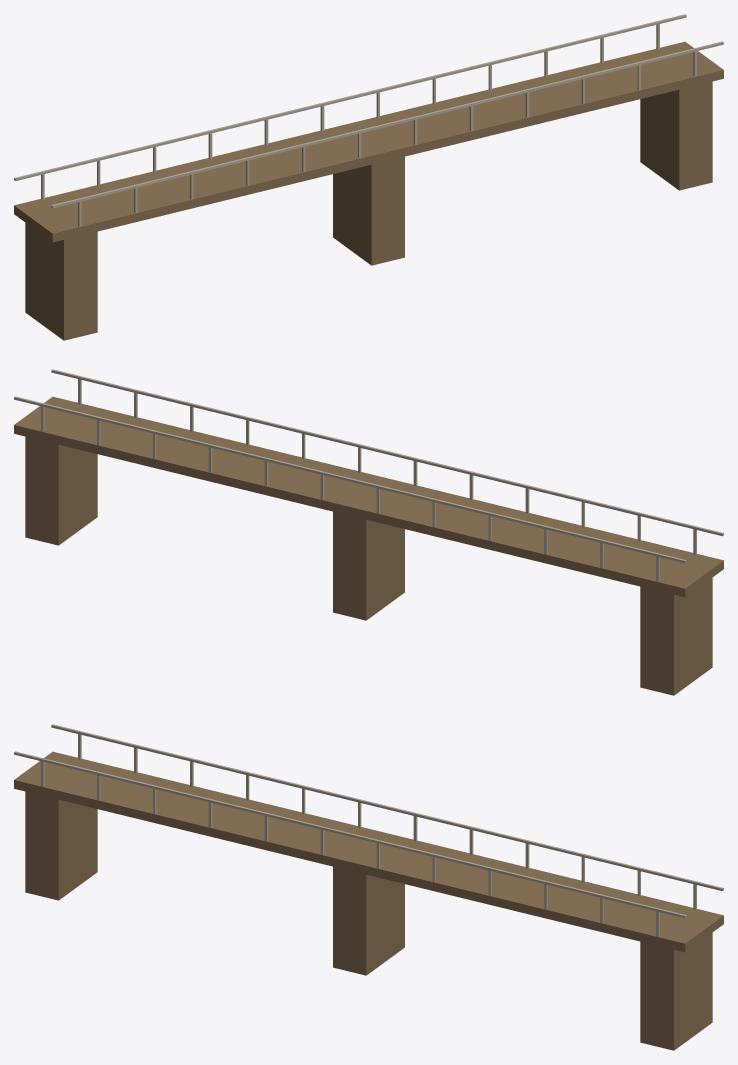
File: g05-footbridge-timber.glb
The picture shows the model from 3 angles, top to bottom: view 1: azimuth 30°, elevation 25°; view 2: azimuth 150°, elevation 25°; view 3: azimuth 330°, elevation 25°; orthographic projection.
Visible parts, largest first — view 1: part0, part1, part3, part2, part29, part28; view 2: part0, part1, part3, part2, part28, part29; view 3: part0, part3, part1, part2, part29, part28.
Boxes of the visible parts, <box> form: part0: <box>14,41,723,242</box>; part1: <box>25,222,97,340</box>; part3: <box>640,78,712,190</box>; part2: <box>333,154,404,265</box>; part29: <box>14,14,686,181</box>; part28: <box>51,41,723,208</box>; part0: <box>14,396,723,597</box>; part1: <box>640,577,712,695</box>; part3: <box>25,432,97,545</box>; part2: <box>333,511,404,620</box>; part28: <box>51,369,723,536</box>; part29: <box>14,396,686,563</box>; part0: <box>14,751,723,952</box>; part3: <box>640,932,712,1050</box>; part1: <box>25,788,97,900</box>; part2: <box>333,866,404,975</box>; part29: <box>51,724,723,891</box>; part28: <box>14,751,686,918</box>.
Bounding box in the file's own units: 24000 × 4690 × 2400.
